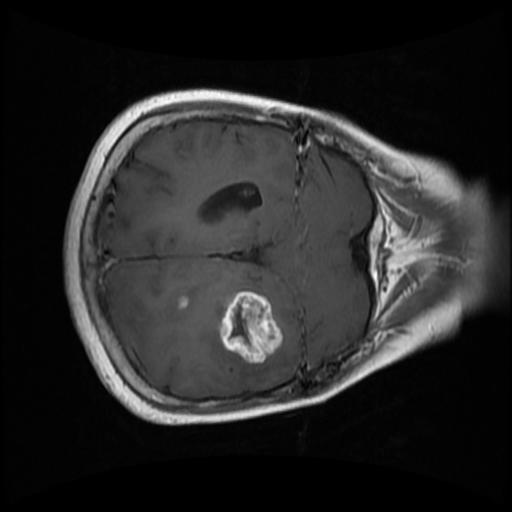glioma: (219, 290, 283, 364)
